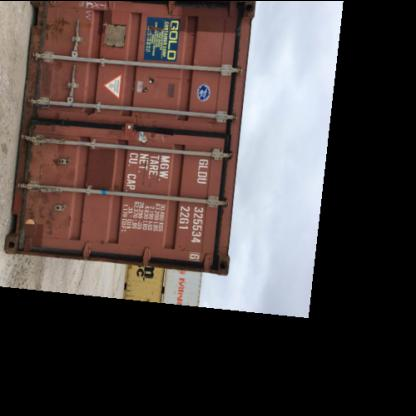Damage: (27, 106, 82, 184), (26, 190, 72, 242), (132, 118, 190, 146), (42, 6, 84, 44)
